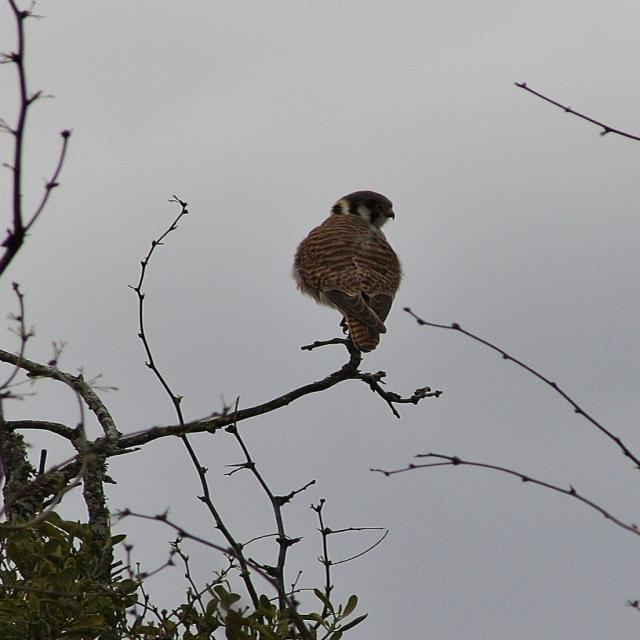bird: (289, 191, 401, 355)
